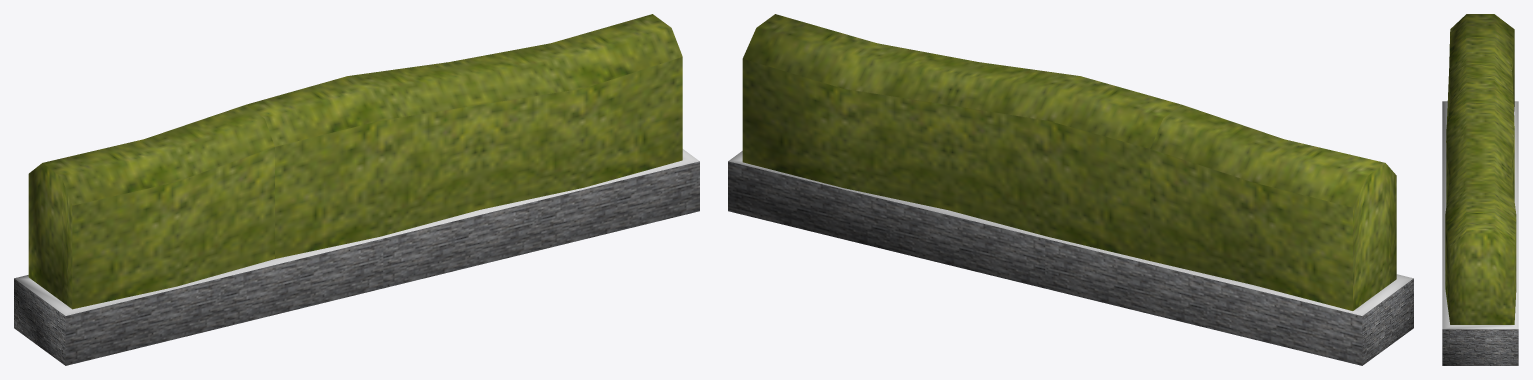
Rendered from Grass wall.fbx.
3 renders of one model, left to right at view 1: azimuth 30°, elevation 25°; view 2: azimuth 150°, elevation 25°; view 3: azimuth 270°, elevation 25°, orthographic. The views are drawn at different scales.
Visible parts, largest first — view 1: BushFence; view 2: BushFence; view 3: BushFence.
Part boxes in pixels (bbox=[...]): BushFence: bbox=[14, 14, 699, 365]; BushFence: bbox=[728, 14, 1413, 365]; BushFence: bbox=[1442, 14, 1518, 365].
Bounding box in the file's own units: 710 × 200 × 100.
